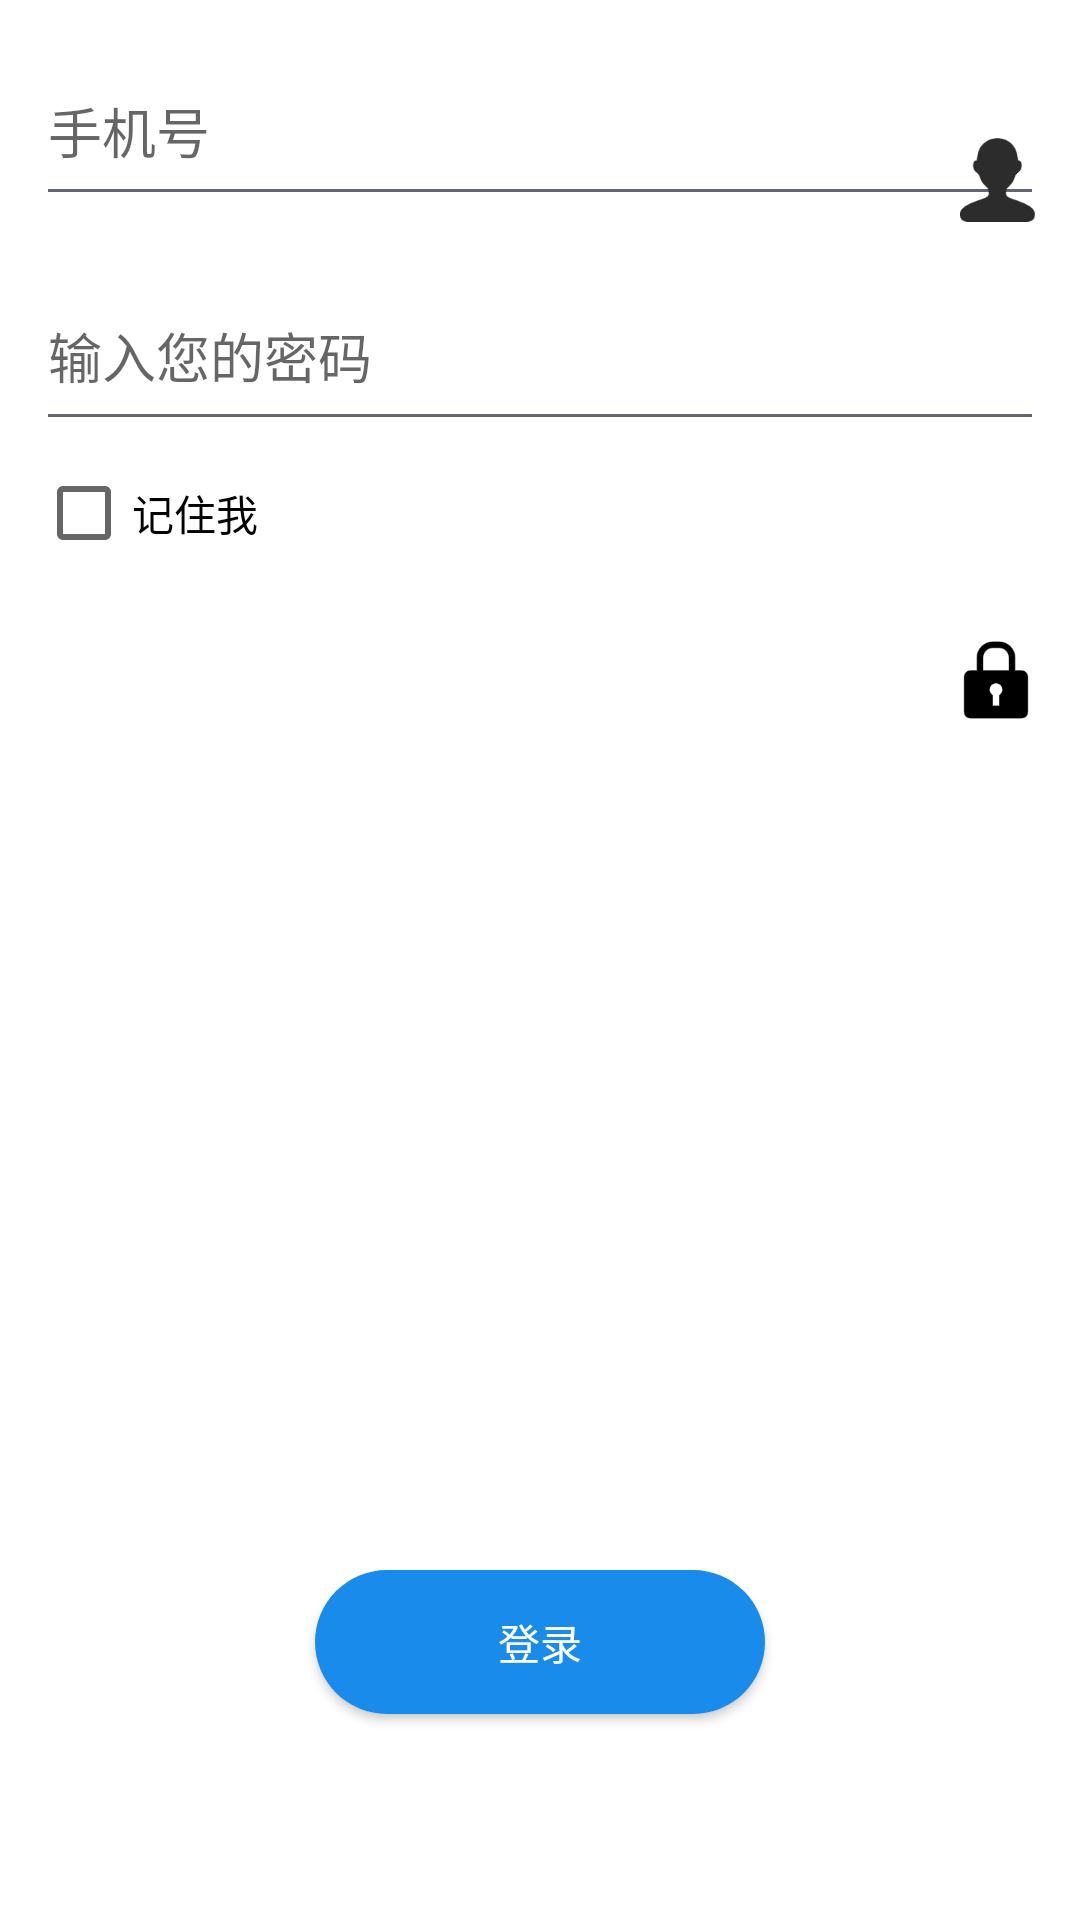

Screen size 1080 × 1920. Icon name, then its center in pixels as (x,y):
lock: (996,680)
user login: (991,180)
